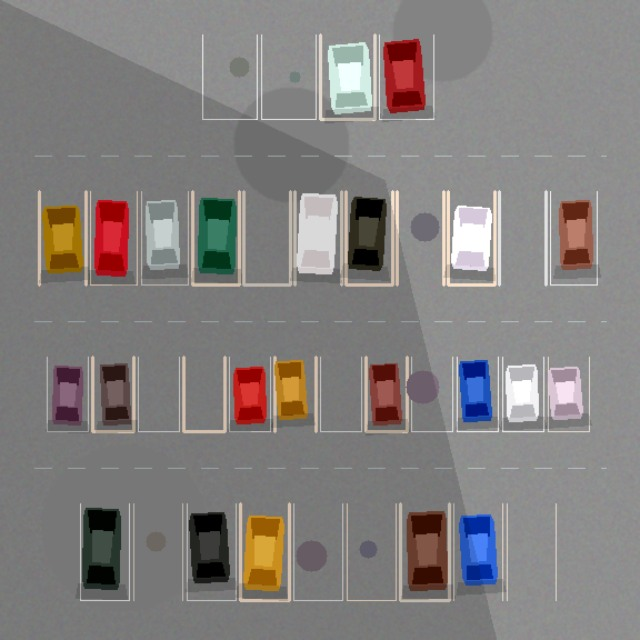space-empty: (133, 503, 182, 600), (293, 503, 342, 600), (347, 503, 396, 600), (507, 503, 556, 600), (202, 34, 257, 119), (261, 34, 316, 119), (243, 191, 290, 284), (499, 191, 546, 284), (397, 191, 443, 284), (138, 357, 179, 431), (183, 357, 224, 431), (320, 357, 361, 431), (411, 357, 452, 431)
space-occupied: (80, 503, 129, 600), (187, 503, 236, 600), (240, 503, 289, 600), (400, 503, 449, 600), (453, 503, 502, 600), (320, 34, 374, 119), (379, 34, 433, 119), (39, 191, 86, 284), (90, 191, 137, 284), (141, 191, 188, 284), (192, 191, 239, 284), (294, 191, 341, 284), (550, 191, 597, 284), (346, 191, 392, 284), (448, 191, 494, 284), (274, 357, 316, 431), (47, 357, 88, 431), (92, 357, 133, 431), (229, 357, 270, 431), (366, 357, 407, 431), (457, 357, 498, 431), (502, 357, 543, 431), (548, 357, 589, 431)
